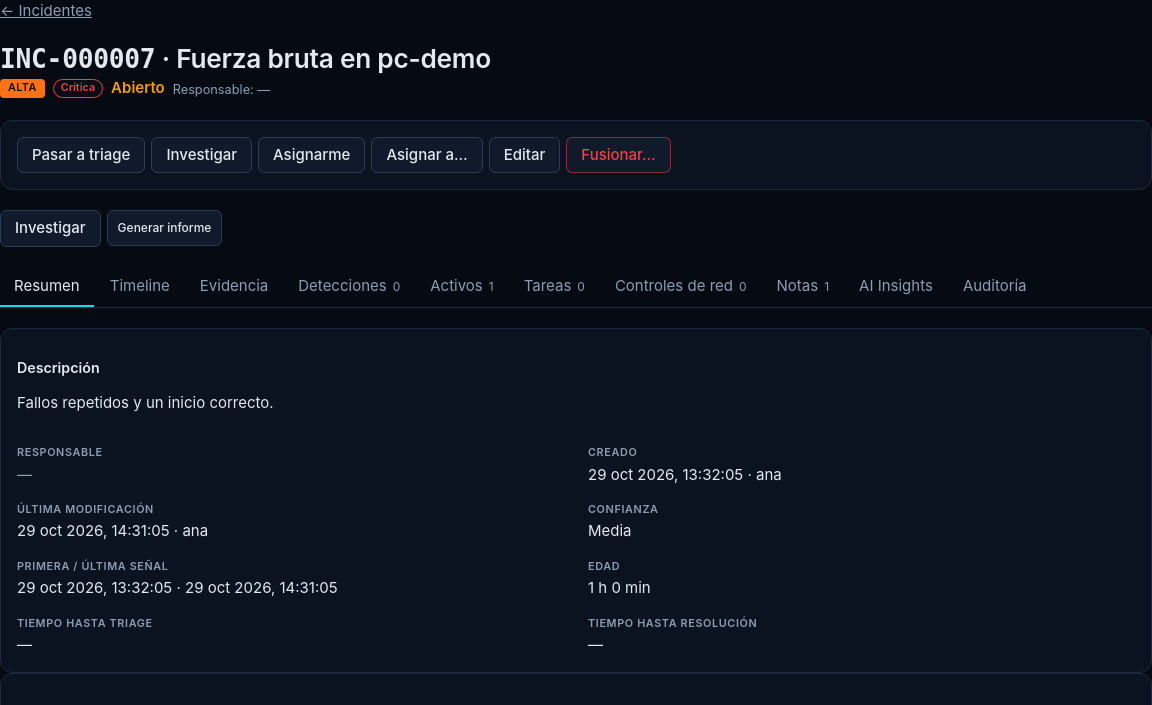
Test case: IncidentDetailPage › muestra resumen, riesgo de 4I y pestañas; el texto del timeline es plano
Check: the heading "INC-000007 · Fuerza bruta en pc-demo" is shown, box [0,42,491,74]
Check: the text "Fallos repetidos y un inicio correcto." is shown, box [17,393,274,412]
Click the tab "Timeline". click: {"x": 140, "y": 287}
box: [96,267,184,307]
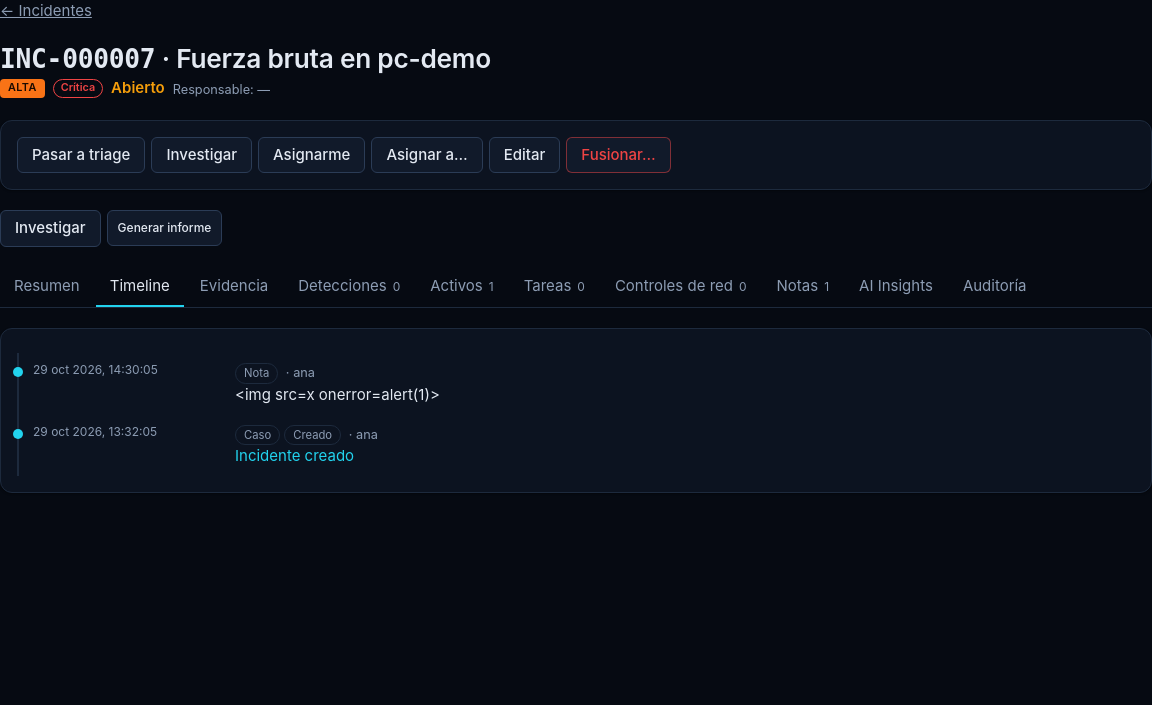
Check: the text "<img src=x onerror=alert(1)>" is shown, box [235,385,440,404]
Click the tab "Notas1". click: {"x": 803, "y": 287}
box: [763,267,843,307]
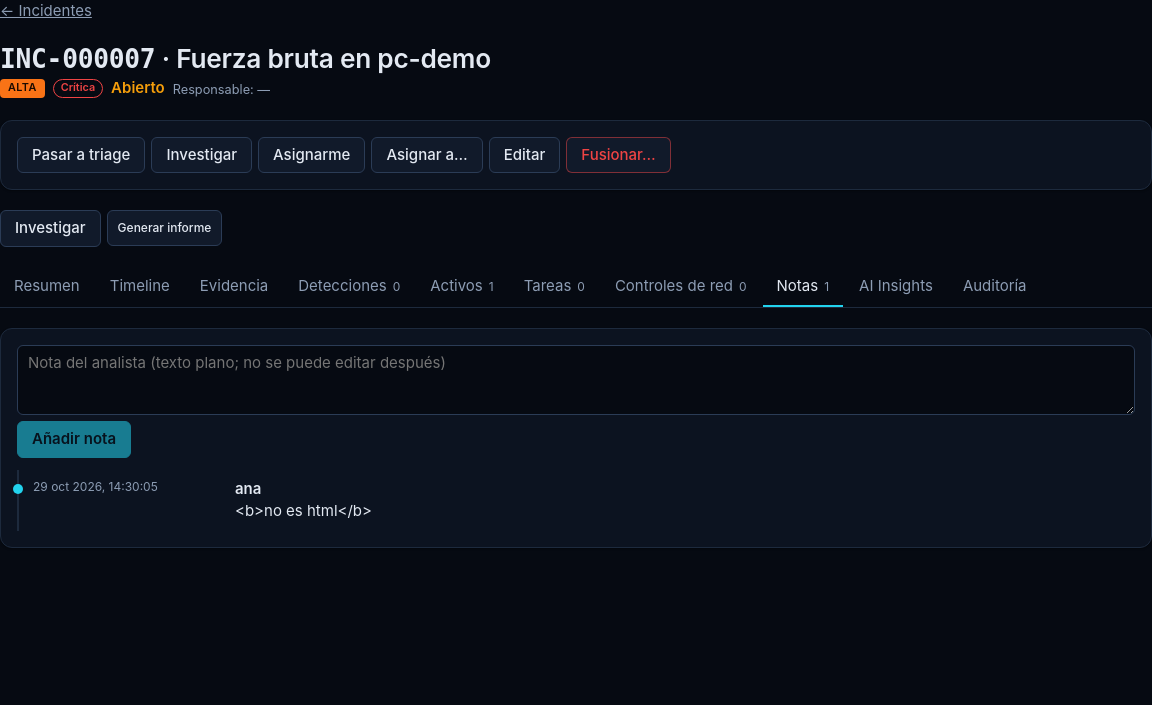
Check: the text "<b>no es html</b>" is shown, box [235,501,372,520]
